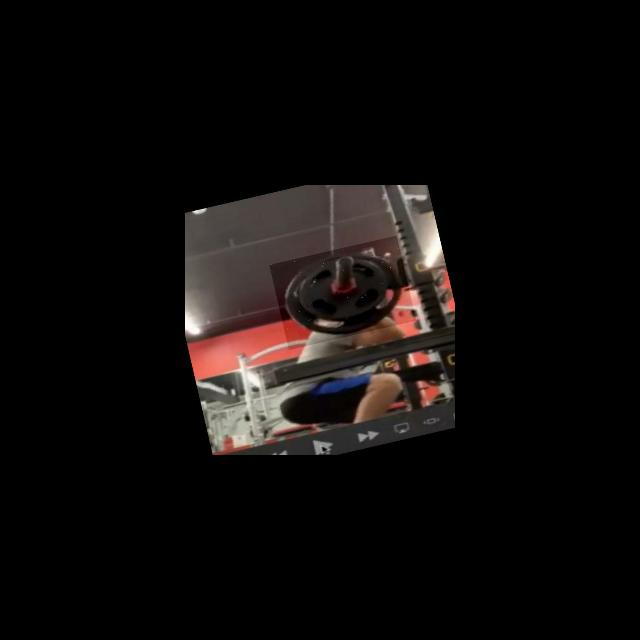barbell: (269, 235, 416, 349)
